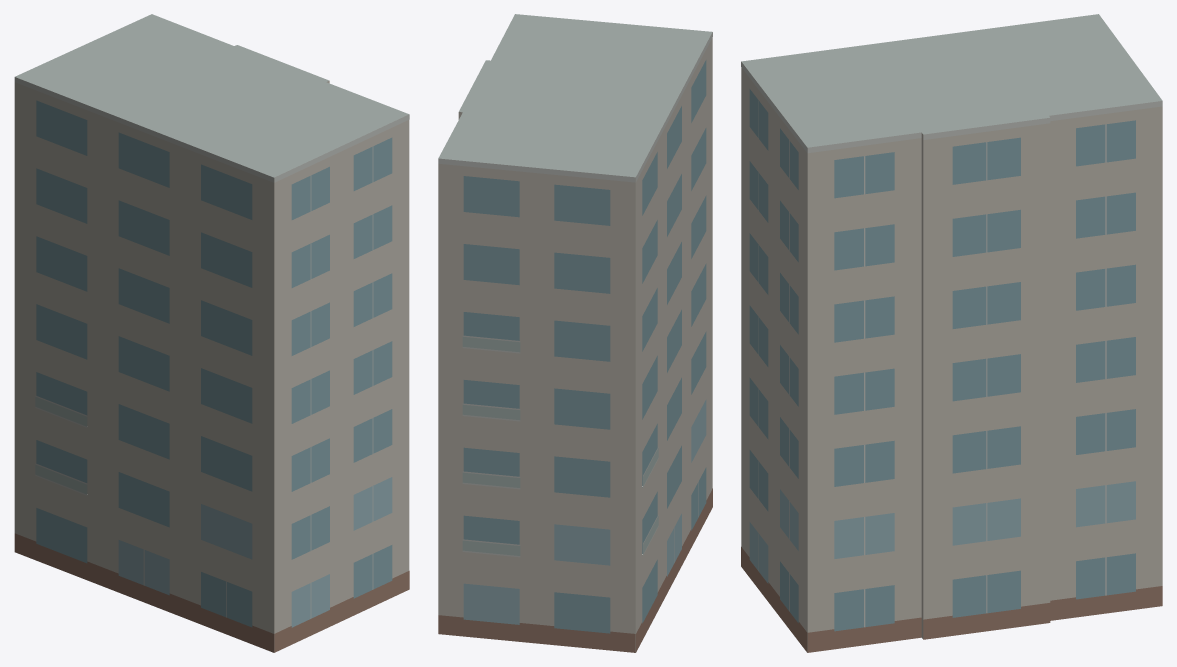
Rendered from survey-upis-33003467.glb.
The picture shows the model from 3 angles, left to right: view 1: azimuth 30°, elevation 25°; view 2: azimuth 150°, elevation 25°; view 3: azimuth 270°, elevation 25°; orthographic projection. The views are drawn at different scales.
Visible parts, largest first — view 1: survey-upis-33003467.tmp; view 2: survey-upis-33003467.tmp; view 3: survey-upis-33003467.tmp.
Part boxes in pixels (x1,y1,x2,y2): survey-upis-33003467.tmp: (14,14,409,652); survey-upis-33003467.tmp: (438,14,712,652); survey-upis-33003467.tmp: (741,14,1162,652).
Size of the model in its own units: 12.56 by 22.1 by 16.72.
